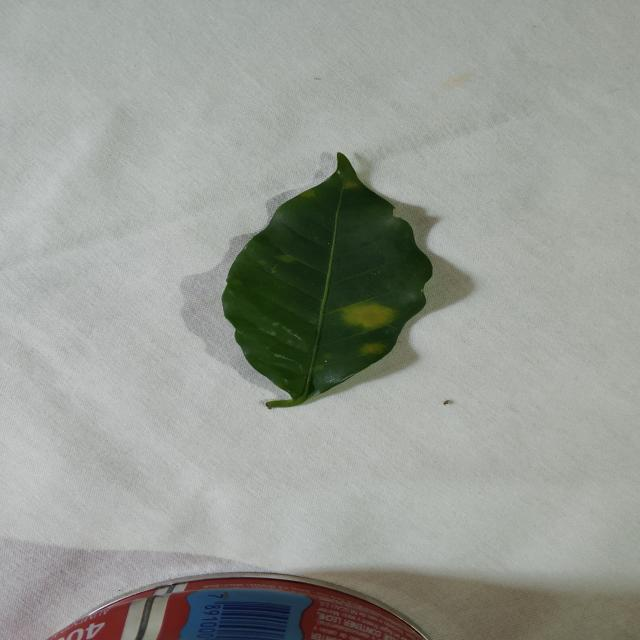Enfermedad-Roya: (221, 155, 444, 408)
